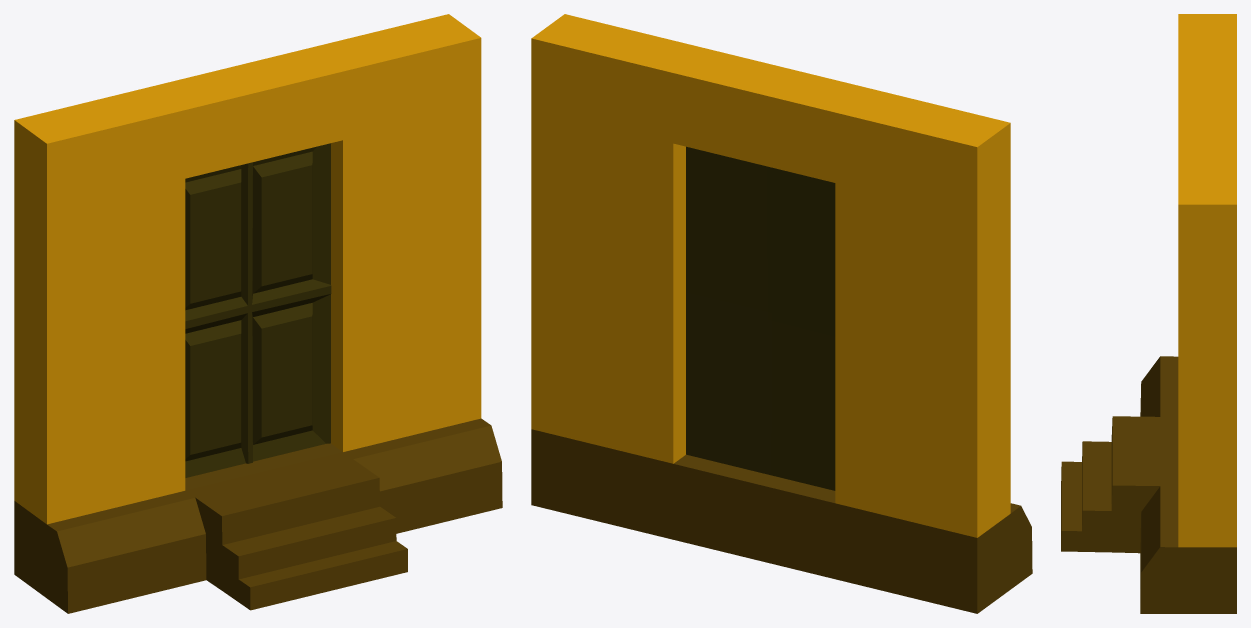
File: Front Door.fbx
The picture shows the model from 3 angles, left to right: view 1: azimuth 30°, elevation 25°; view 2: azimuth 150°, elevation 25°; view 3: azimuth 270°, elevation 25°; orthographic projection. The views are drawn at different scales.
Parts seen in each view (by area): view 1: Cube.015, Cube.001; view 2: Cube.015, Cube.001; view 3: Cube.015.
Part boxes in pixels (x1=…): Cube.015: x1=14, y1=14, x2=502, y2=613; Cube.001: x1=185, y1=143, x2=331, y2=477; Cube.015: x1=531, y1=14, x2=1032, y2=613; Cube.001: x1=686, y1=146, x2=835, y2=490; Cube.015: x1=1061, y1=14, x2=1236, y2=613.
Size of the model in its own units: 200 by 200 by 77.84.
